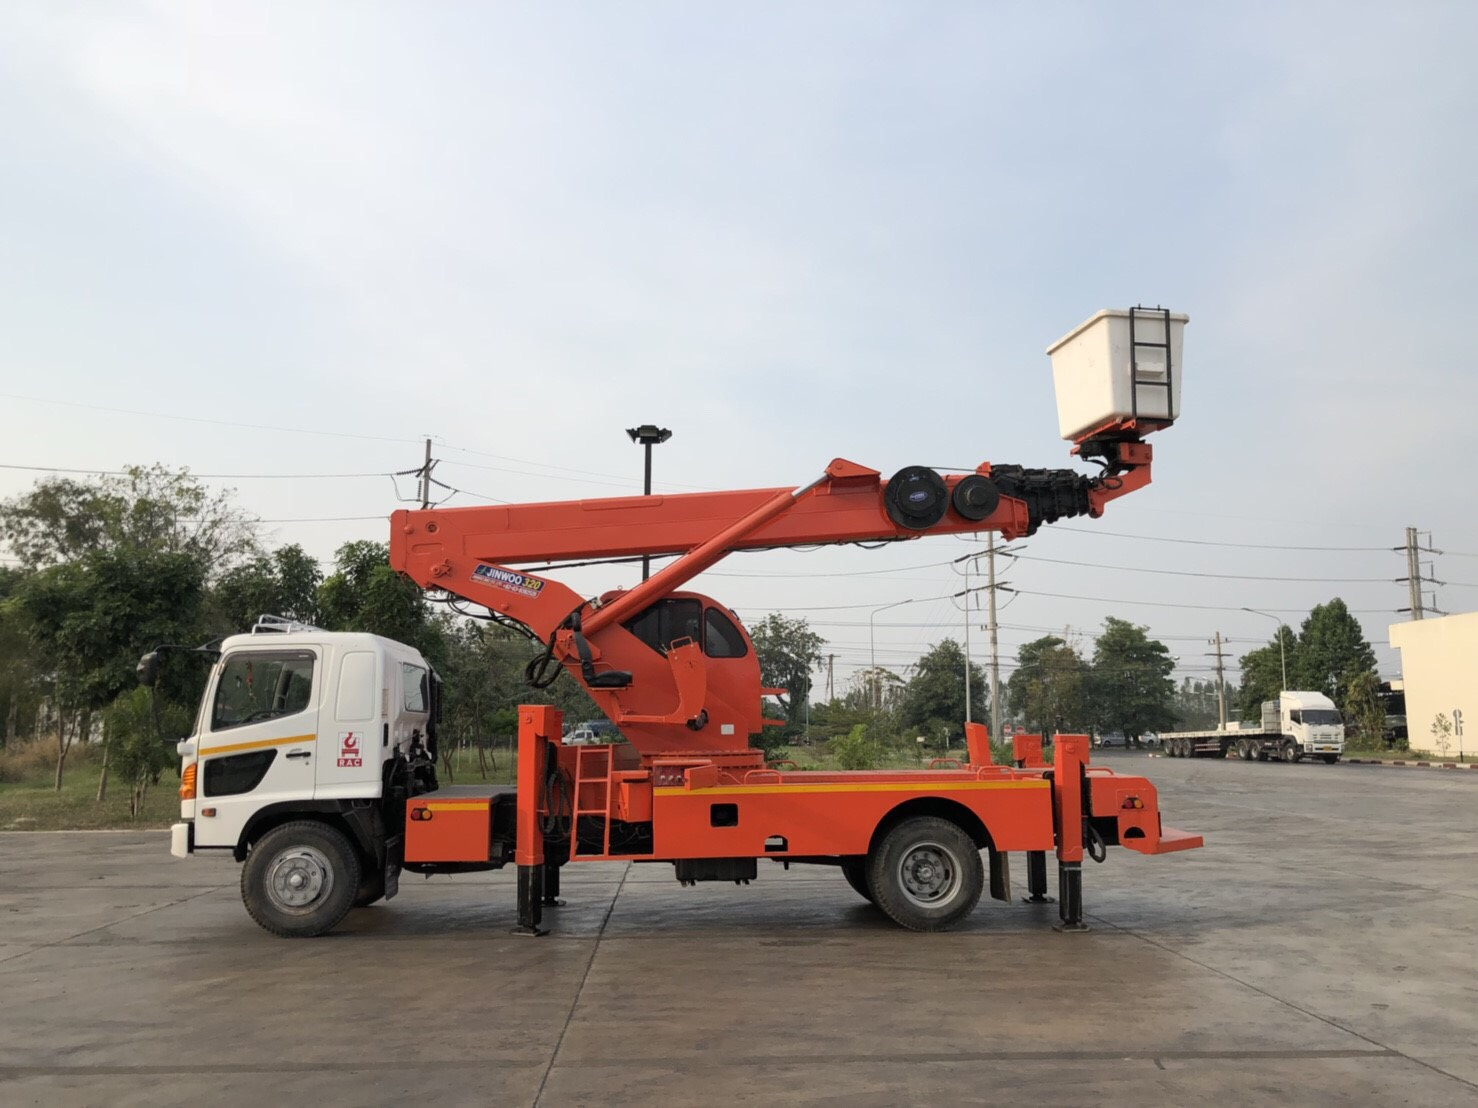truck: (173, 608, 1182, 943)
